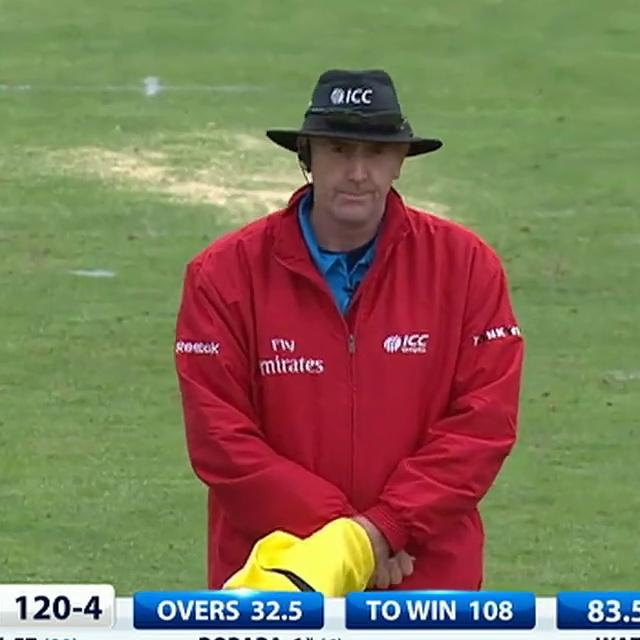umpire: (142, 32, 552, 592)
